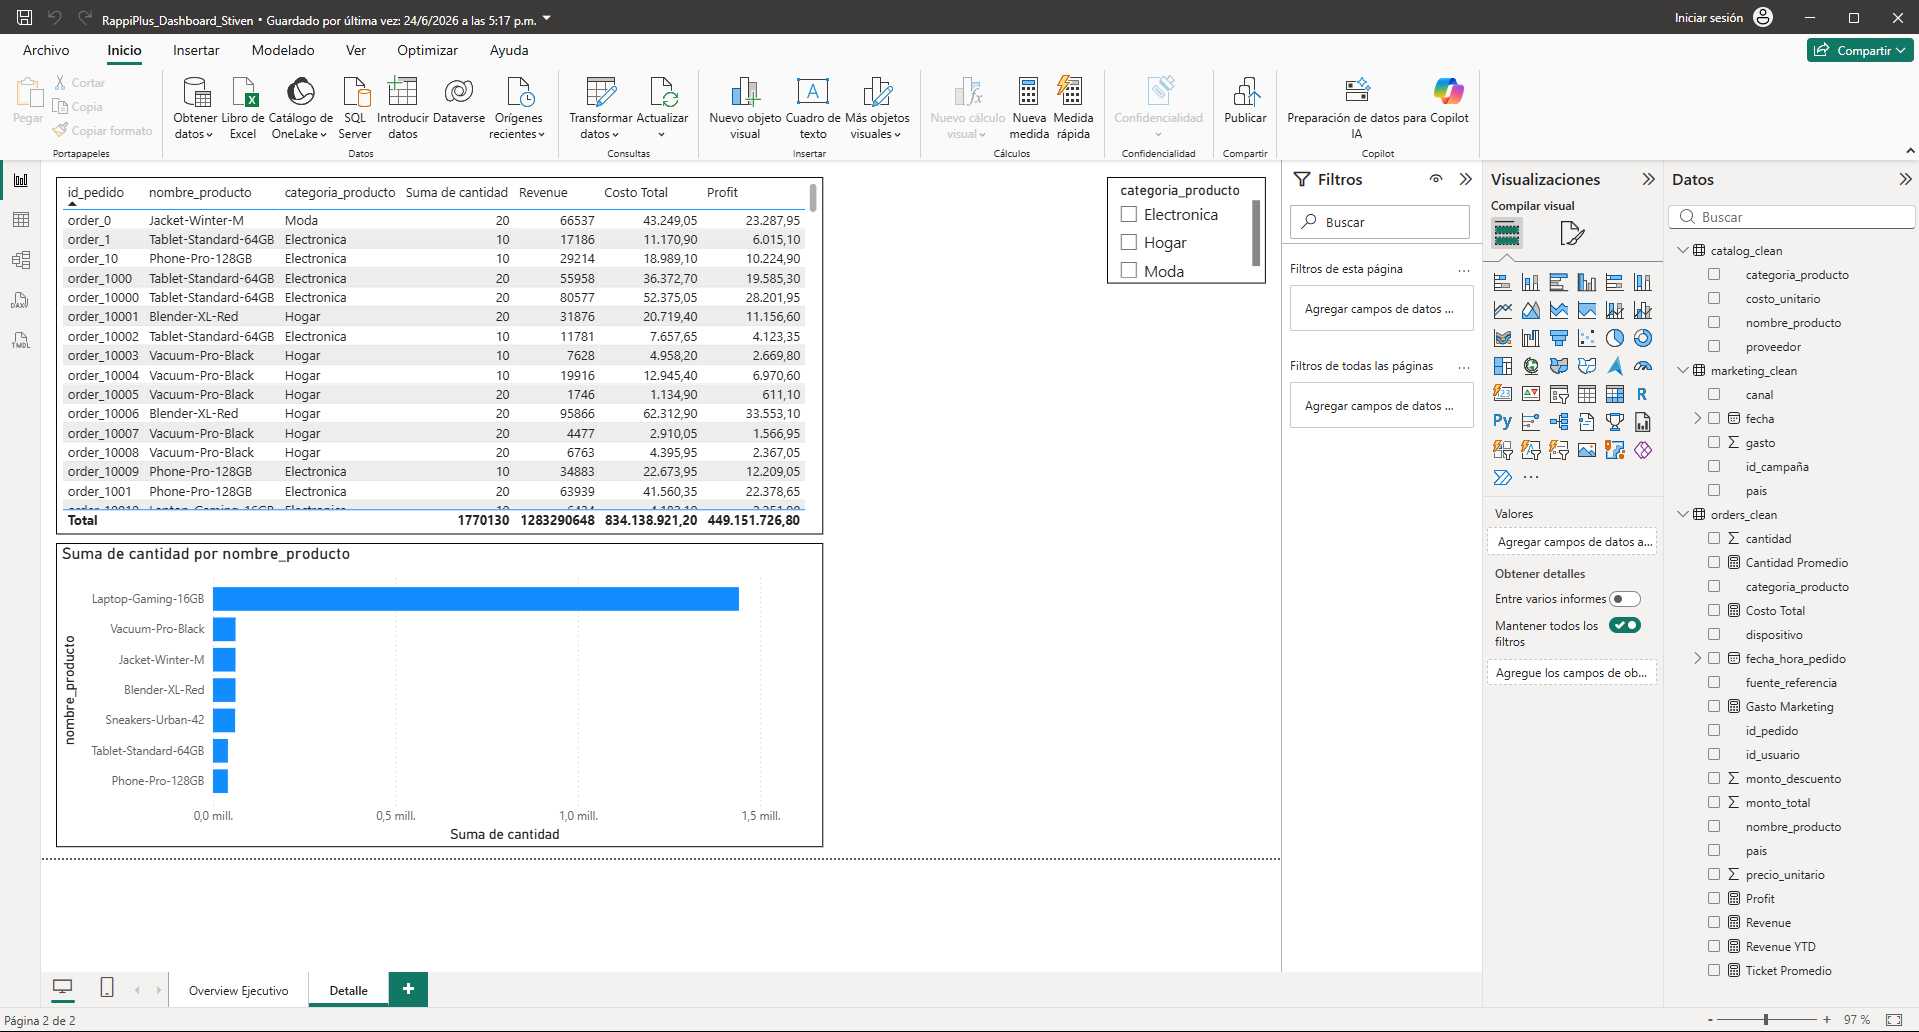

Layout of this report page (visuals, bound fields, positions):
{"tool":"powerbi","page":{"name":"Detalle","canvas":[1280,720],"ordinal":1},"visuals":[{"type":"tableEx","fields":{"Values":["orders_clean.id_pedido","orders_clean.nombre_producto","orders_clean.categoria_producto","Sum(orders_clean.cantidad)","orders_clean.Revenue","orders_clean.Costo Total","orders_clean.Profit"]},"box":[15.9,17.9,791.7,369],"z":0},{"type":"clusteredBarChart","fields":{"Category":["orders_clean.nombre_producto"],"Y":["Sum(orders_clean.cantidad)"]},"box":[15.9,395.8,791.7,314.3],"z":1},{"type":"slicer","fields":{"Values":["orders_clean.categoria_producto"]},"box":[1100,17.9,164.1,110.4],"z":2}]}

Visuals, with their boxes on the page's 1280x720 design canvas (x1, y1, x2, y2). These are canvas units, not pixel positions in the 1919x1032 screenshot, which may show the page scaled, cropped or inside an application window:
tableEx - orders_clean.id_pedido x orders_clean.nombre_producto: [x1=16, y1=18, x2=808, y2=387]
clusteredBarChart - orders_clean.nombre_producto x Sum(orders_clean.cantidad): [x1=16, y1=396, x2=808, y2=710]
slicer - orders_clean.categoria_producto: [x1=1100, y1=18, x2=1264, y2=128]
